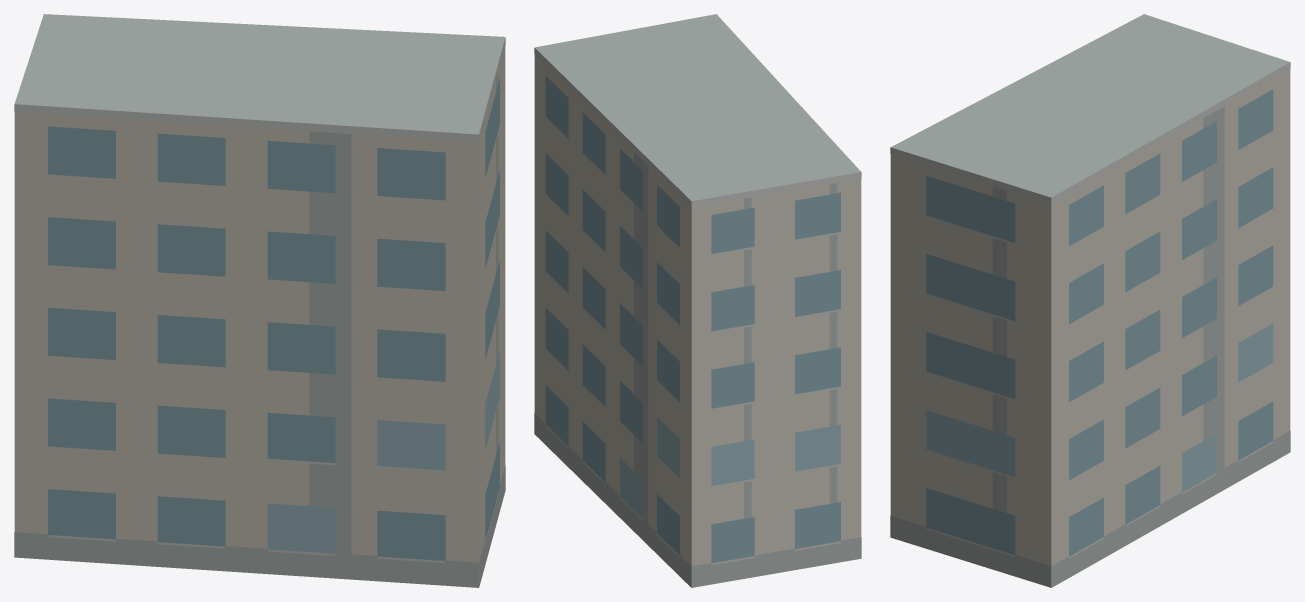
The model's file is survey-upis-33041821.glb.
The picture shows the model from 3 angles, left to right: view 1: azimuth 30°, elevation 25°; view 2: azimuth 150°, elevation 25°; view 3: azimuth 270°, elevation 25°; orthographic projection. The views are drawn at different scales.
Visible parts, largest first — view 1: survey-upis-33041821.tmp; view 2: survey-upis-33041821.tmp; view 3: survey-upis-33041821.tmp.
Part boxes in pixels (x1,y1,x2,y2): survey-upis-33041821.tmp: (14,14,505,587); survey-upis-33041821.tmp: (534,14,861,587); survey-upis-33041821.tmp: (890,14,1290,587).
Size of the model in its own units: 13.93 by 13.8 by 12.82.
